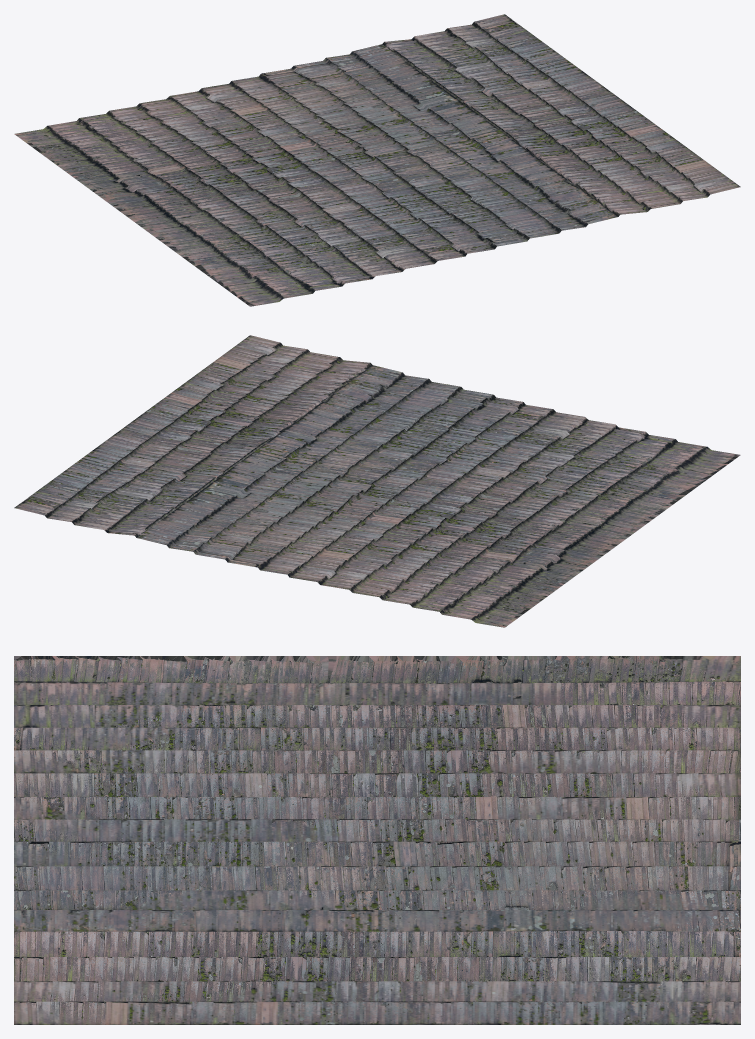
File: sm_Roof_01_01.fbx
3 renders of one model, top to bottom at view 1: azimuth 30°, elevation 25°; view 2: azimuth 150°, elevation 25°; view 3: azimuth 270°, elevation 25°, orthographic. The views are drawn at different scales.
Visible parts, largest first — view 1: sm_Roof_01_01_LOD0; view 2: sm_Roof_01_01_LOD0; view 3: sm_Roof_01_01_LOD0.
Boxes of the visible parts, left/top/right/bottom form: sm_Roof_01_01_LOD0: left=14, top=14, right=740, bottom=306; sm_Roof_01_01_LOD0: left=14, top=335, right=740, bottom=627; sm_Roof_01_01_LOD0: left=14, top=656, right=740, bottom=1024.
Size of the model in its own units: 600 by 500 by 4.78.
